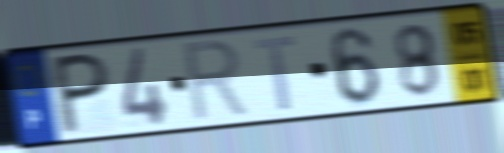4: (117, 44, 170, 129)
6: (327, 23, 385, 109)
8: (392, 20, 446, 101)
P: (52, 49, 113, 139)
R: (180, 35, 254, 127)
T: (250, 33, 299, 114)
